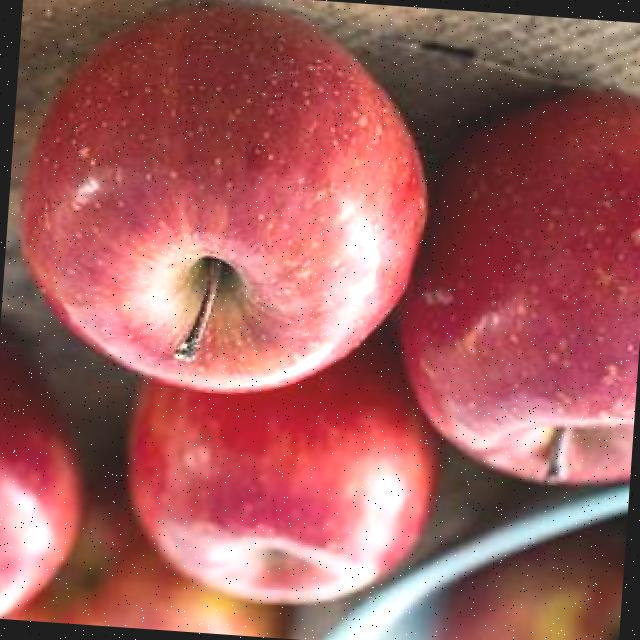apple: (3, 0, 440, 405), (403, 72, 640, 493)
